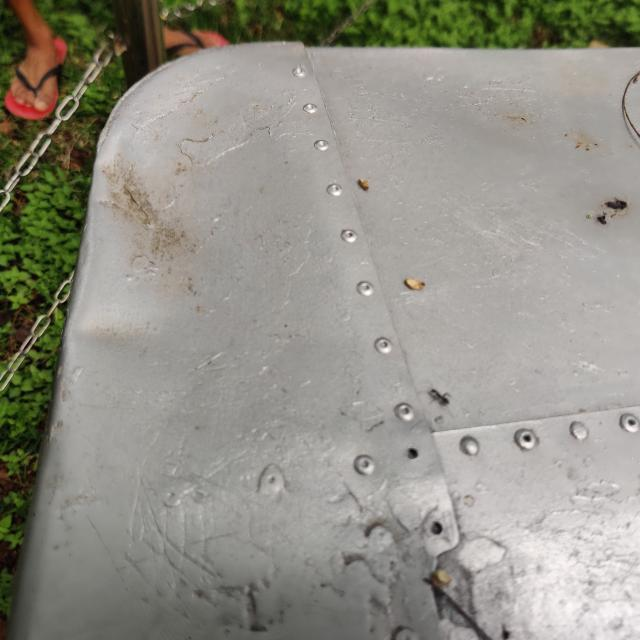dent: (55, 271, 174, 374)
scratch: (107, 450, 254, 608)
